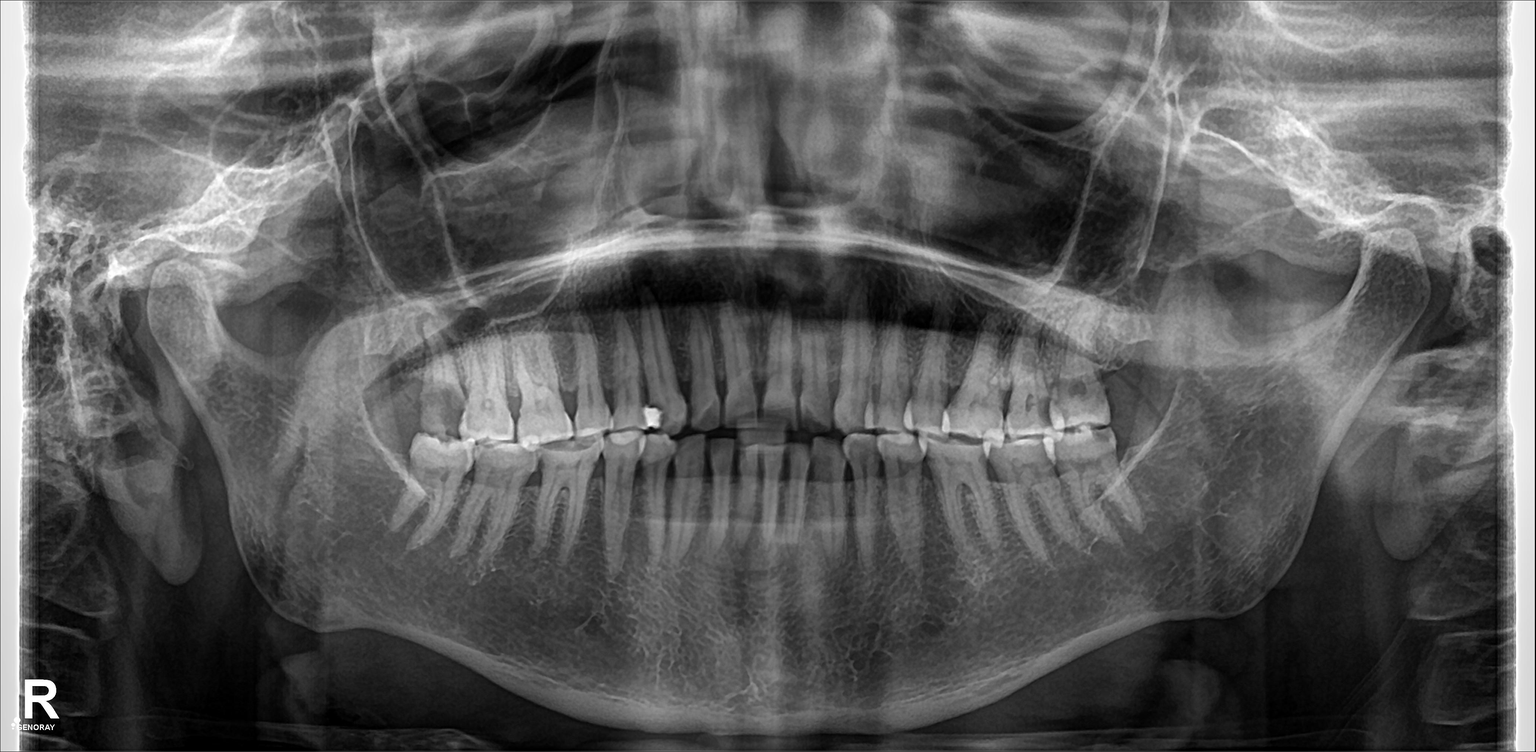Dental Caries: (423, 382, 463, 434)
Missing Tooth: (1114, 322, 1158, 413), (385, 333, 422, 429), (374, 419, 407, 514)
